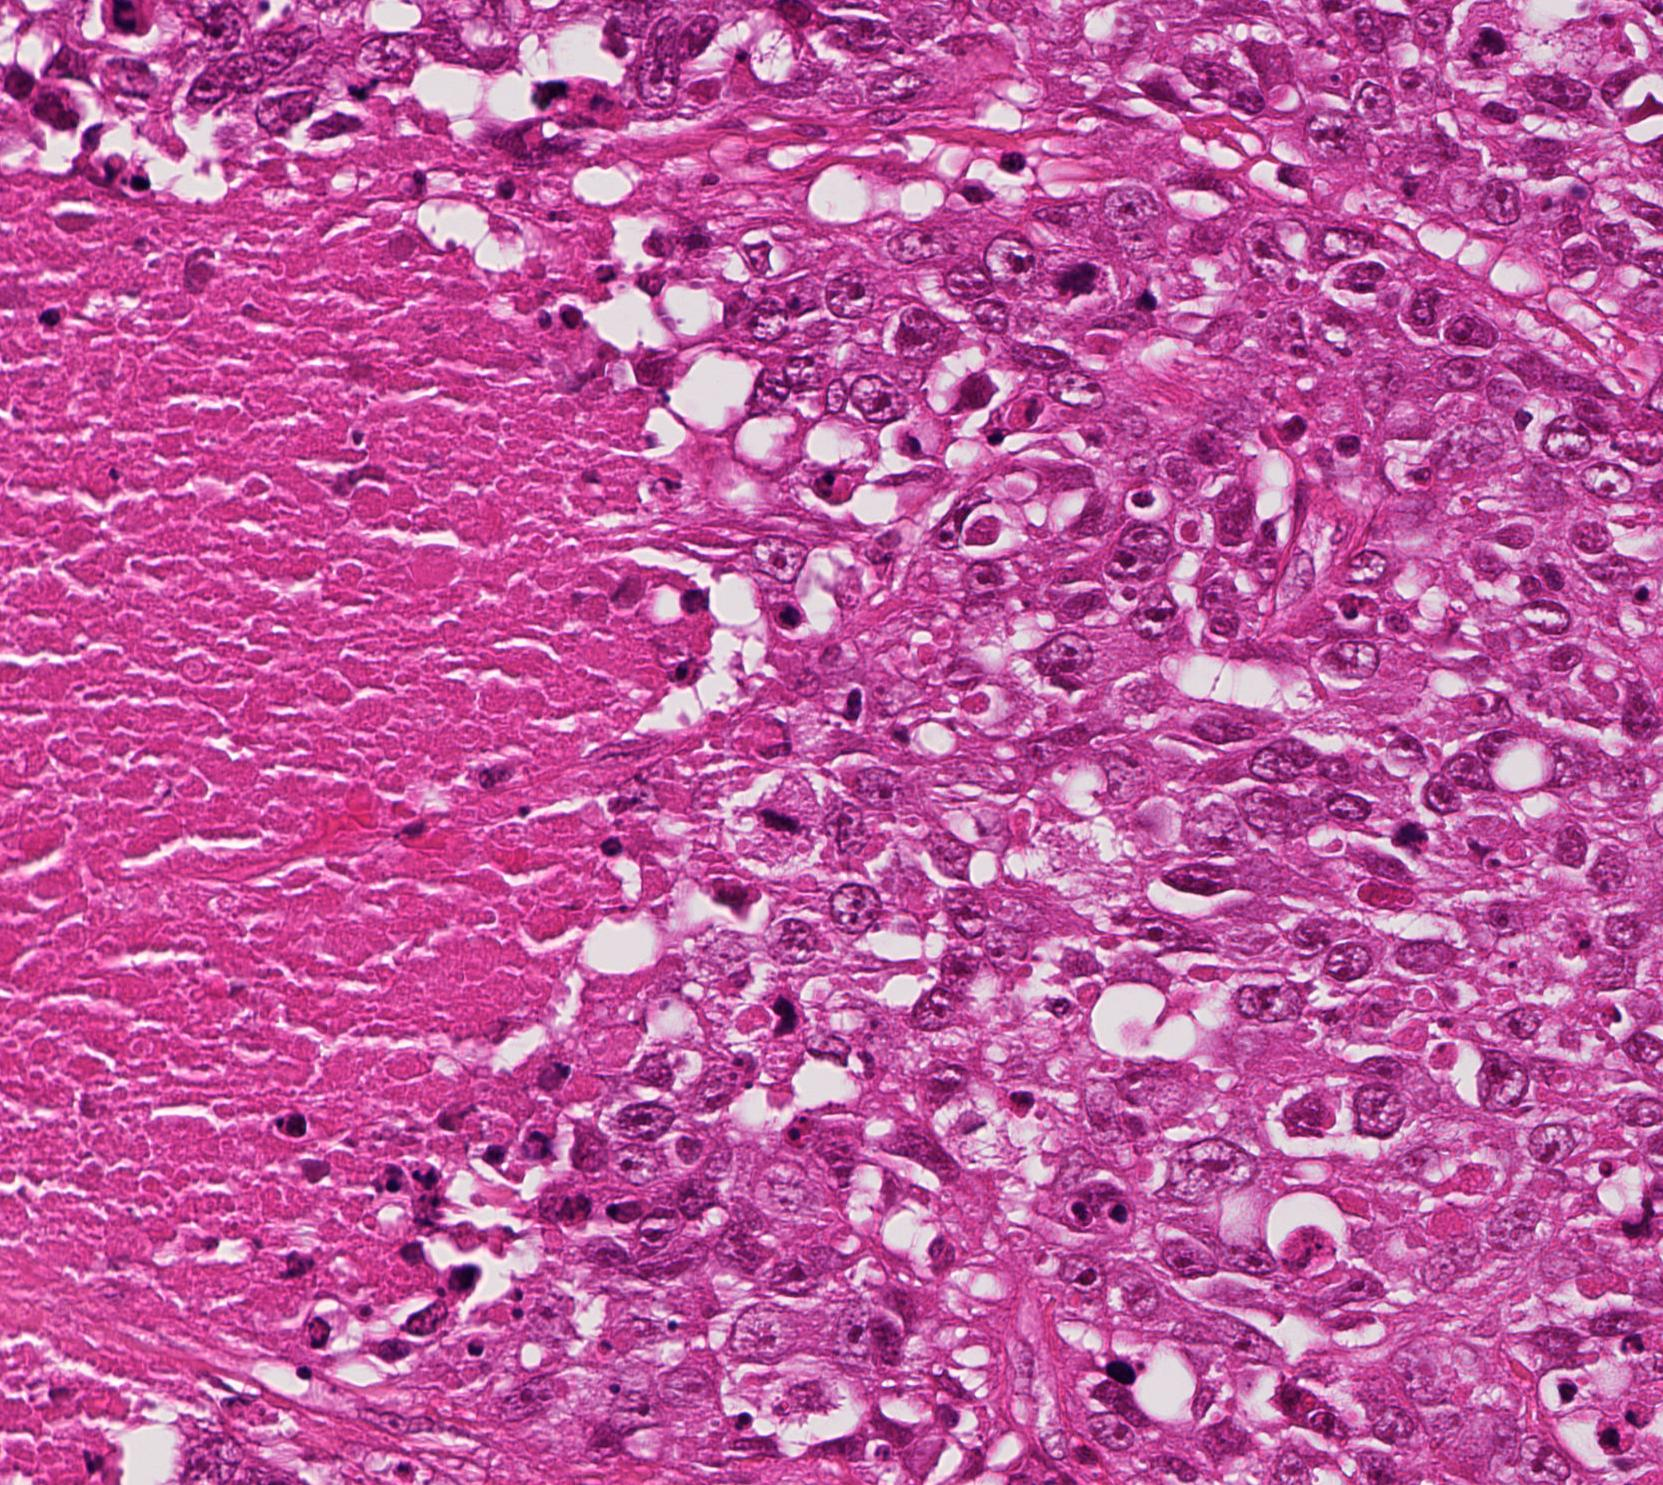mitosis: (754, 793, 814, 851), (1047, 248, 1105, 308)
